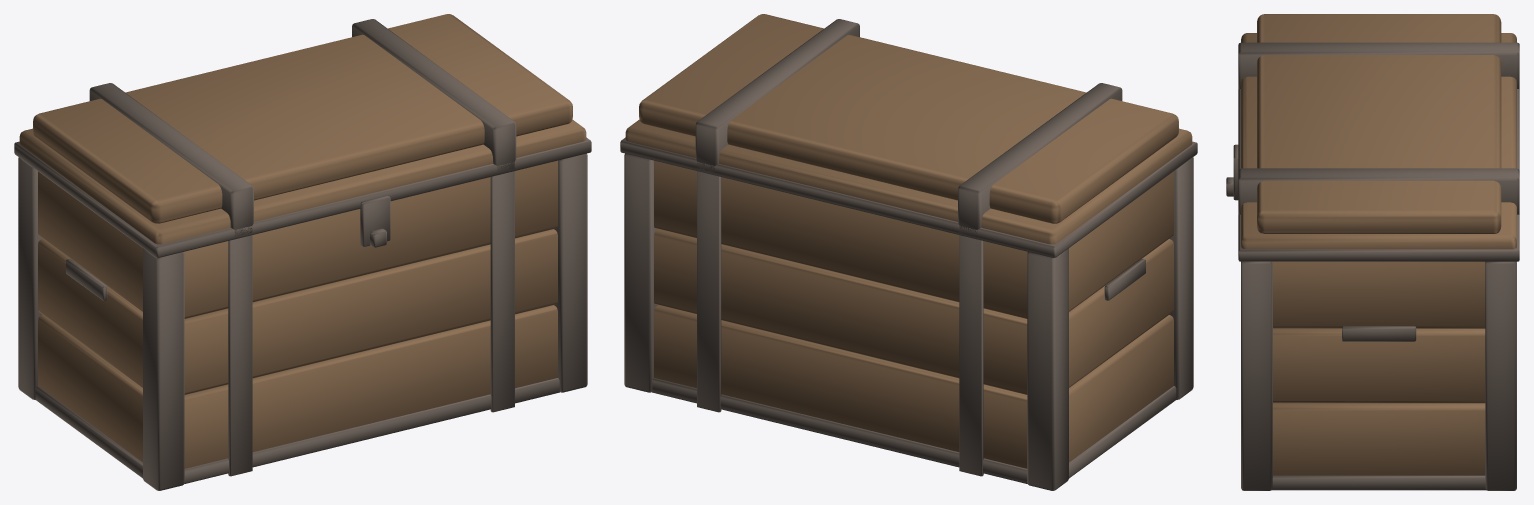
The model's file is trunk.glb.
3 renders of one model, left to right at view 1: azimuth 30°, elevation 25°; view 2: azimuth 150°, elevation 25°; view 3: azimuth 270°, elevation 25°, orthographic.
Visible parts, largest first — view 1: lid_dome, front1, front0, front2, lid_board, corner-10.5, side0-1, lid_band, side1-1, corner10.5, bottom_band, side2-1 (+7 smaller); view 2: lid_dome, back1, back0, back2, lid_board, corner-10.0, side0-1, lid_band, side1-1, corner10.0, bottom_band, side2-1 (+6 smaller); view 3: lid_dome, side01, side11, side21, lid_board, corner10.5, corner10.0, lid_strap-1, lid_strap1, lid_band, bottom_band, handle1 (+1 smaller).
Part boxes in pixels (x1,y1,x2,y2): lid_dome: (33, 14, 572, 223); front1: (184, 229, 557, 394); front0: (184, 305, 557, 468); front2: (184, 160, 557, 318); lid_board: (19, 119, 586, 244); corner-10.5: (143, 248, 184, 490); side0-1: (38, 315, 142, 462); lid_band: (14, 137, 591, 257); side1-1: (38, 239, 142, 387); corner10.5: (554, 153, 587, 392); bottom_band: (35, 378, 559, 483); side2-1: (38, 171, 142, 311); lid_dome: (639, 14, 1178, 223); back1: (654, 229, 1027, 394); back0: (654, 305, 1027, 468); back2: (654, 160, 1027, 318); lid_board: (625, 119, 1192, 244); corner-10.0: (1027, 248, 1068, 490); side0-1: (1069, 315, 1173, 462); lid_band: (620, 137, 1197, 257); side1-1: (1069, 239, 1173, 387); corner10.0: (624, 153, 657, 392); bottom_band: (652, 378, 1176, 483); side2-1: (1069, 171, 1173, 311); lid_dome: (1257, 14, 1501, 233); side01: (1273, 403, 1485, 475); side11: (1273, 328, 1485, 403); side21: (1273, 261, 1485, 328); lid_board: (1241, 33, 1516, 249); corner10.5: (1241, 261, 1272, 490); corner10.0: (1485, 261, 1516, 490); lid_strap-1: (1238, 42, 1519, 89); lid_strap1: (1238, 168, 1519, 214); lid_band: (1238, 42, 1519, 261); bottom_band: (1272, 475, 1485, 490); handle1: (1342, 326, 1416, 341).
Size of the model in its own units: 0.934 by 0.585 by 0.553.
